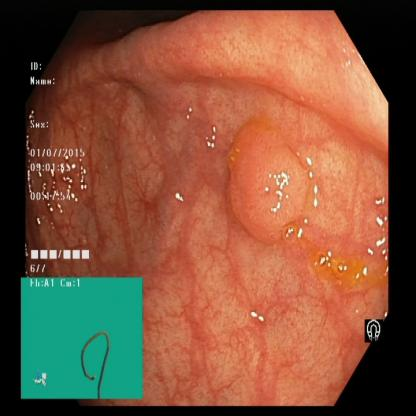Labels: (25, 57, 110, 276), (22, 277, 145, 396), (364, 308, 388, 348)
Polyps: (221, 117, 313, 229)
